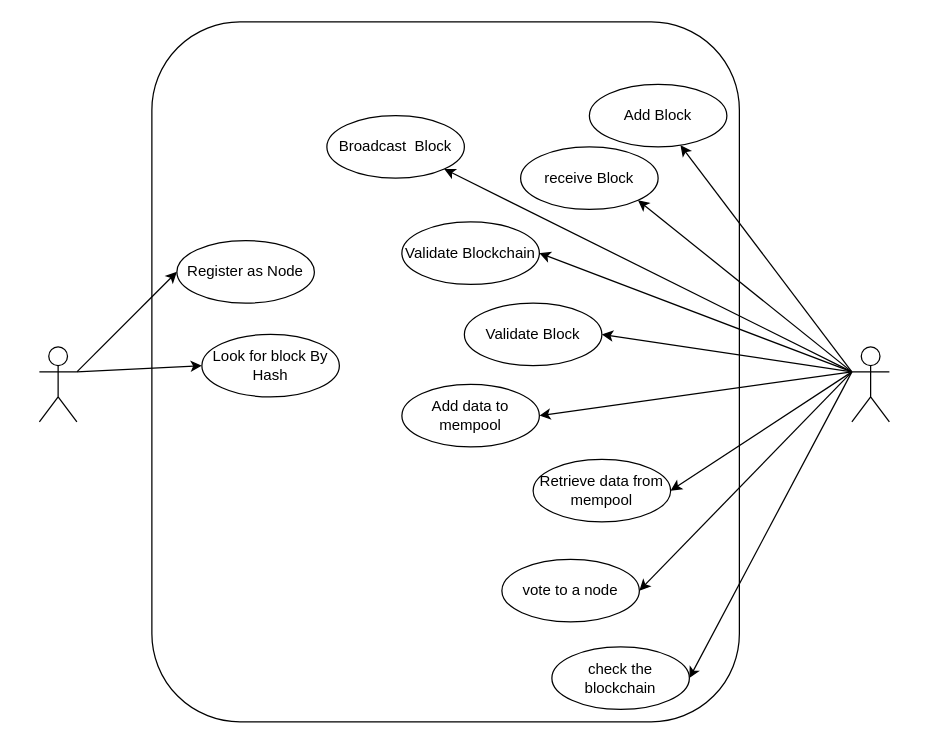
Some shapes in this 925 by 744 pixel diagram are drawn without their labels. Each missing label, with the box of its shape:
University: (851, 346, 889, 422)
Web Client: (38, 346, 77, 422)
